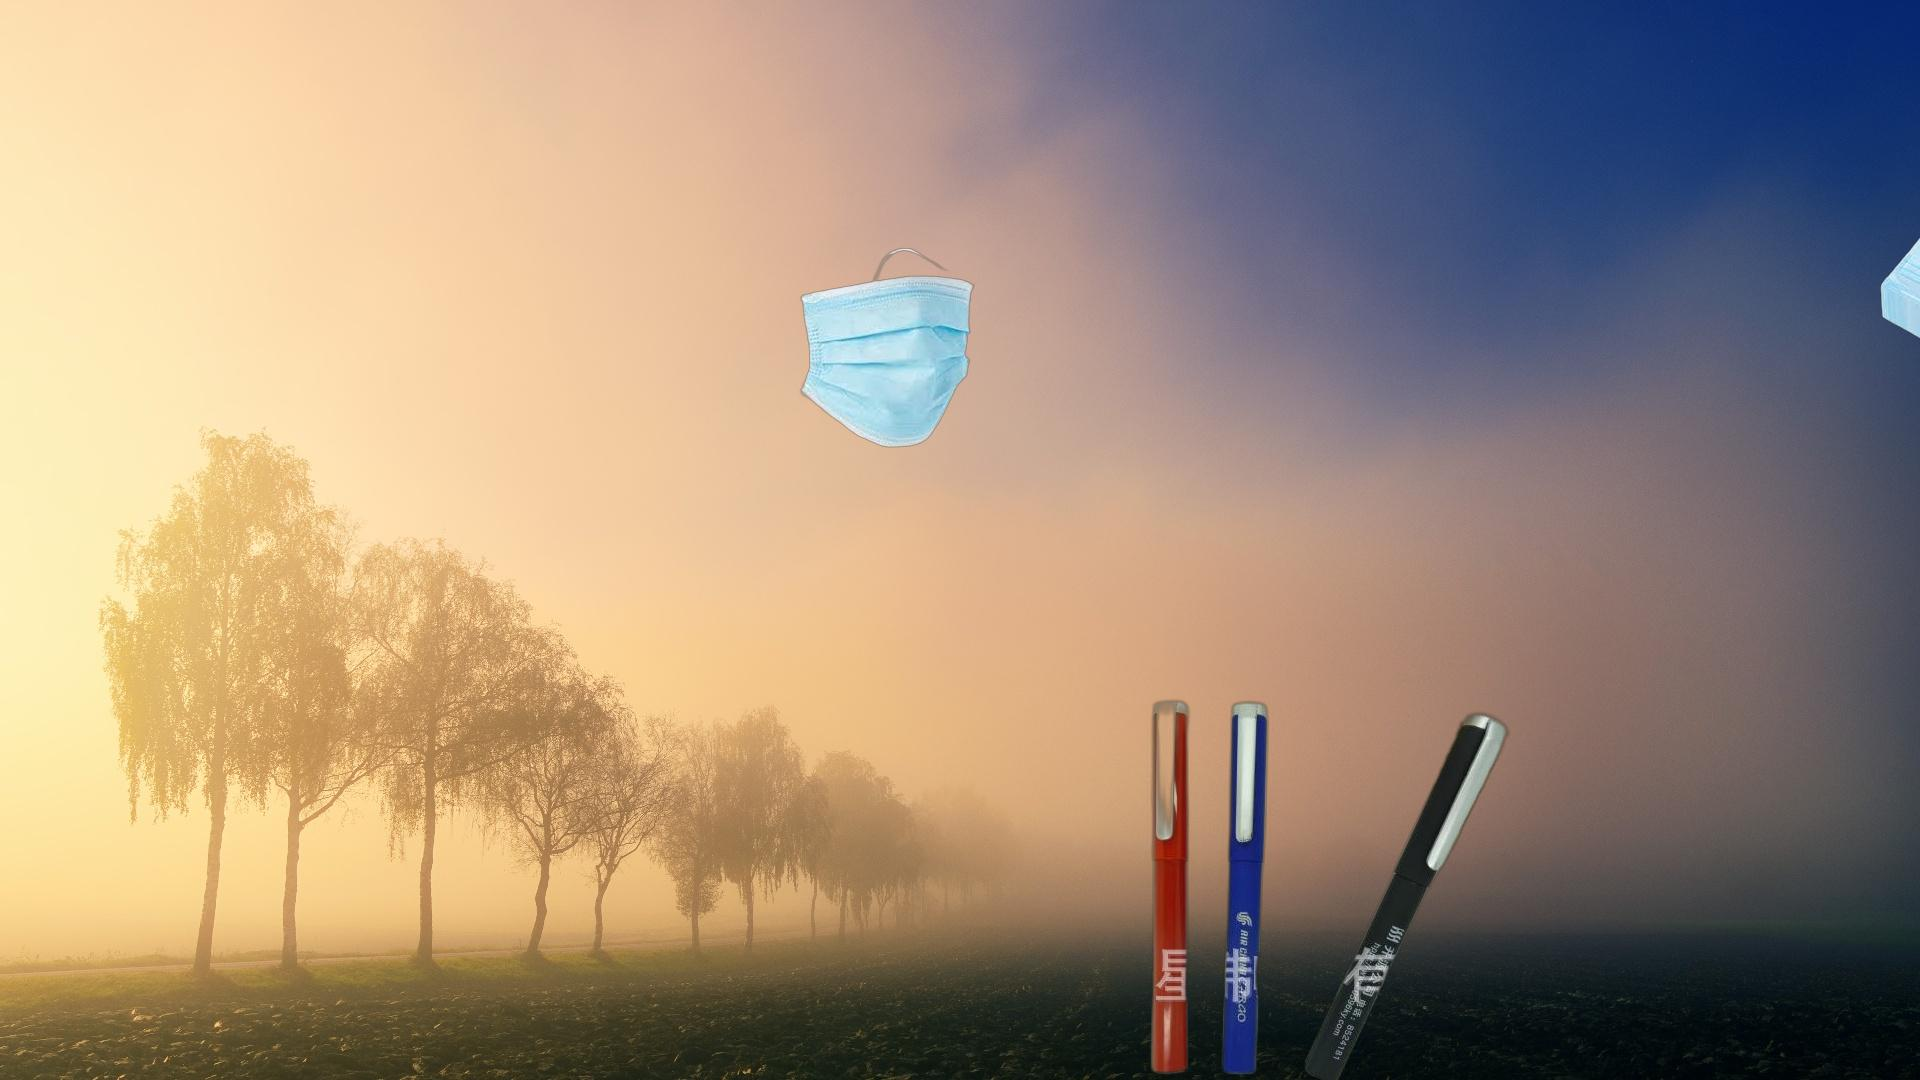penholder: (1145, 673, 1514, 1080)
trash: (798, 247, 977, 448), (1878, 177, 1920, 386)
